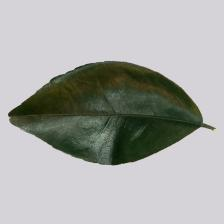healthy: (20, 66, 191, 157)
